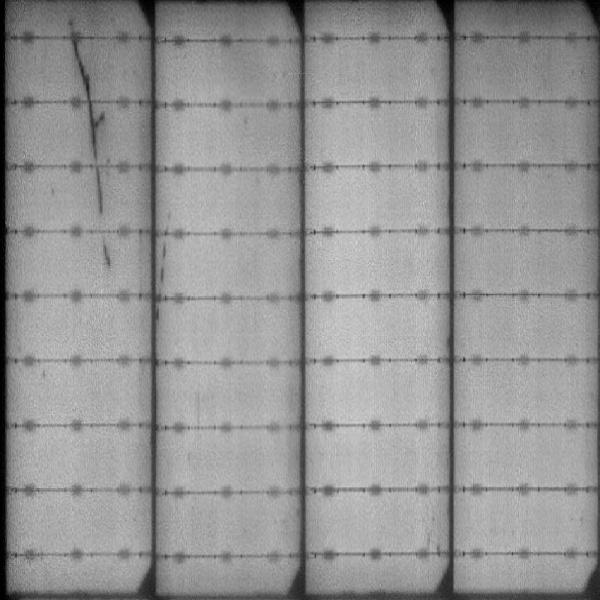scratch: (63, 43, 95, 99), (80, 103, 109, 161), (155, 235, 169, 322), (90, 167, 106, 218), (101, 244, 113, 275)
